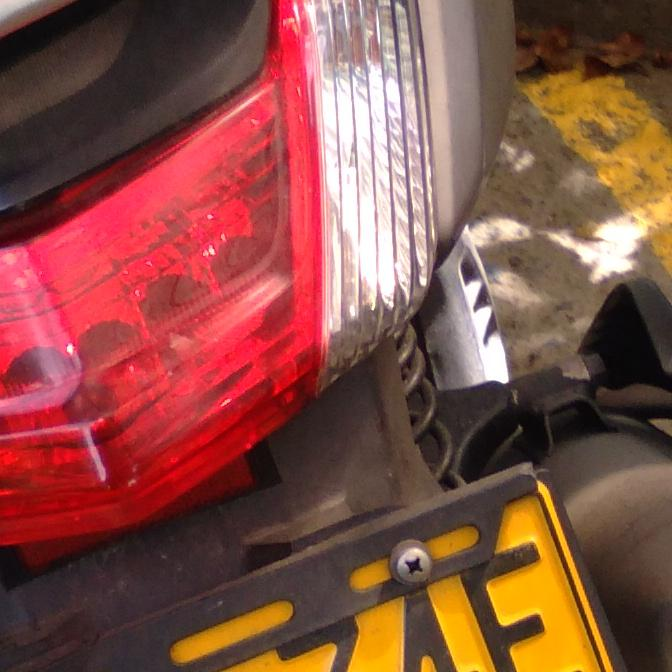plates: (32, 462, 616, 672)
